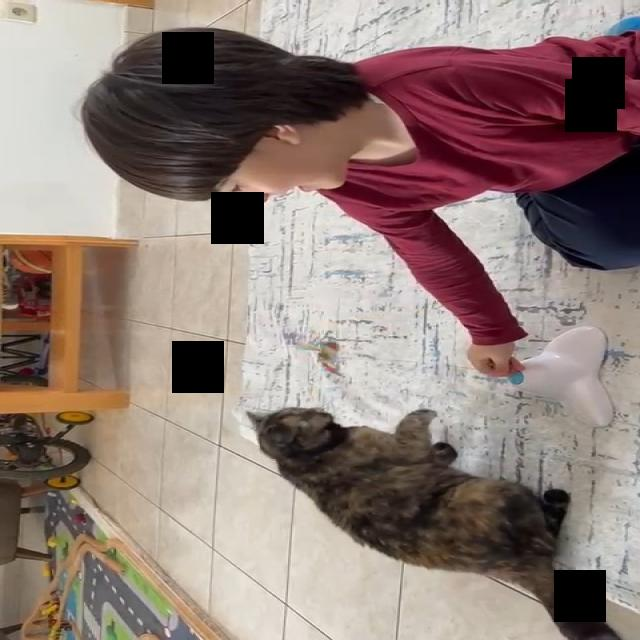authorized: (244, 406, 623, 640)
